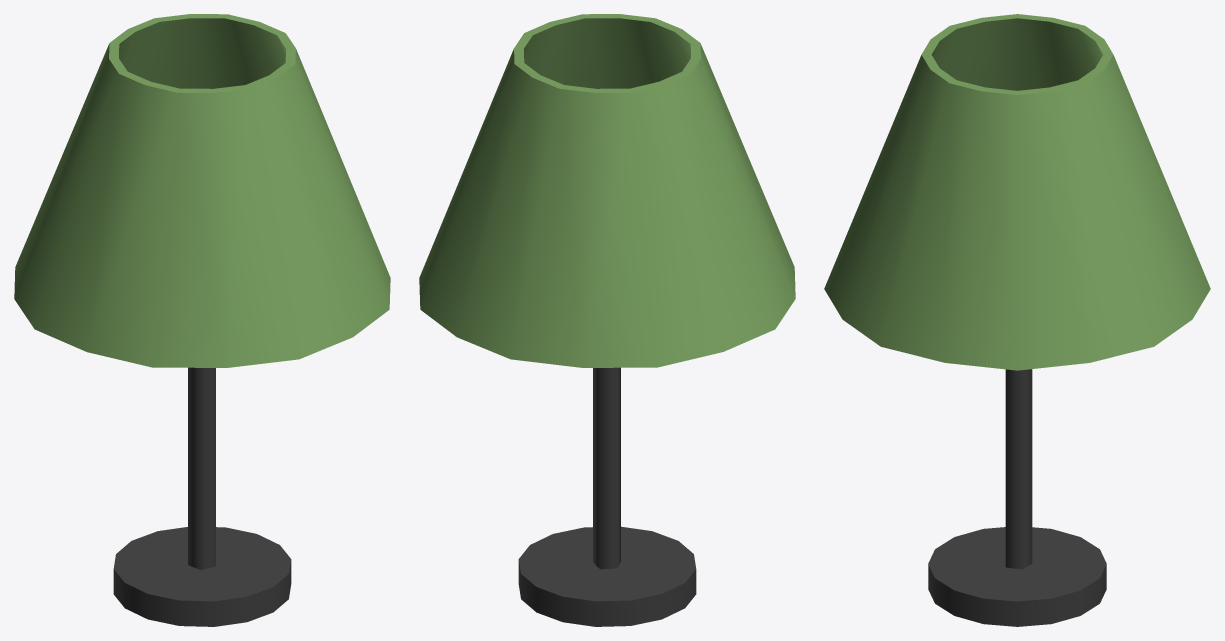
File: Lamp_01_Table.fbx
3 renders of one model, left to right at view 1: azimuth 30°, elevation 25°; view 2: azimuth 150°, elevation 25°; view 3: azimuth 270°, elevation 25°, orthographic.
Visible parts, largest first — view 1: Lamp_01_Table; view 2: Lamp_01_Table; view 3: Lamp_01_Table.
Boxes of the visible parts, x1=… form: Lamp_01_Table: x1=14, y1=14, x2=390, y2=626; Lamp_01_Table: x1=419, y1=14, x2=795, y2=626; Lamp_01_Table: x1=824, y1=14, x2=1210, y2=626.
Size of the model in its own units: 0.3017 by 0.4603 by 0.3017.
